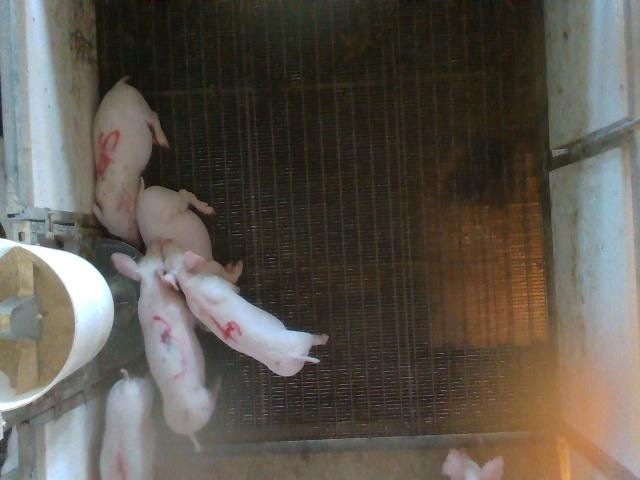pig-1: (100, 369, 154, 479)
pig-3: (112, 241, 215, 449)
pig-4: (162, 244, 328, 376)
pig-5: (92, 76, 169, 246)
